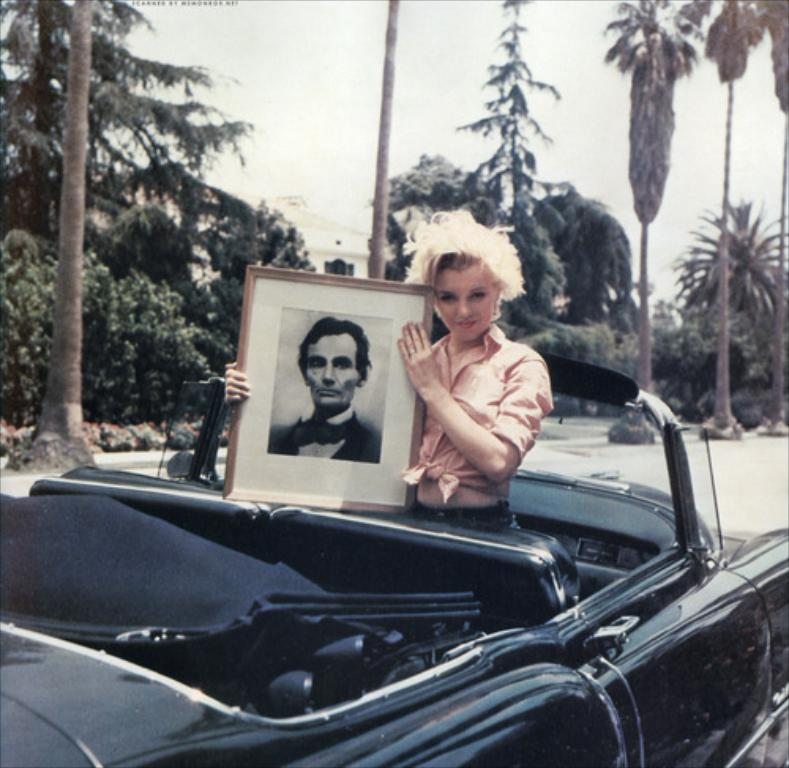Car: (0, 351, 787, 766)
